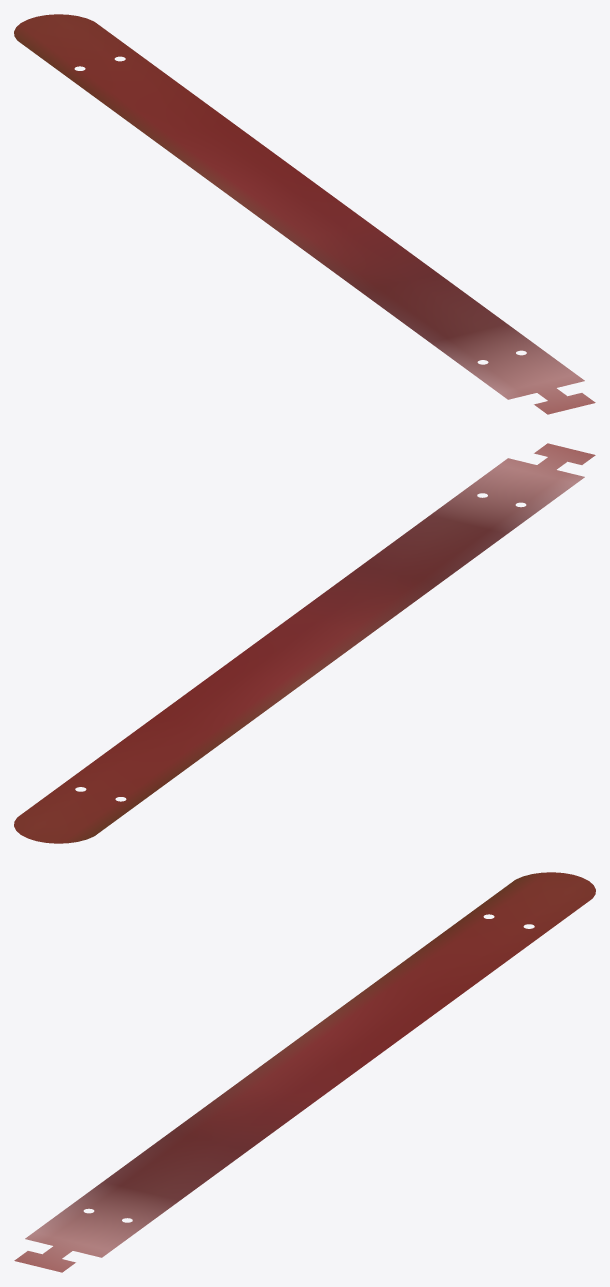
The model's file is original-45.obj.
3 views of the same model, one above another, from view 1: azimuth 30°, elevation 25°; view 2: azimuth 150°, elevation 25°; view 3: azimuth 330°, elevation 25° (orthographic).
Visible parts, largest first — view 1: mesh52/mesh52-geometry#mesh52-geometry; view 2: mesh52/mesh52-geometry#mesh52-geometry; view 3: mesh52/mesh52-geometry#mesh52-geometry.
Part boxes in pixels (x1,y1,x2,y2): mesh52/mesh52-geometry#mesh52-geometry: [14, 14, 595, 414]; mesh52/mesh52-geometry#mesh52-geometry: [14, 443, 595, 843]; mesh52/mesh52-geometry#mesh52-geometry: [14, 872, 595, 1272].
Bounding box in the file's own units: 0.0171 × 0 × 0.2047.
